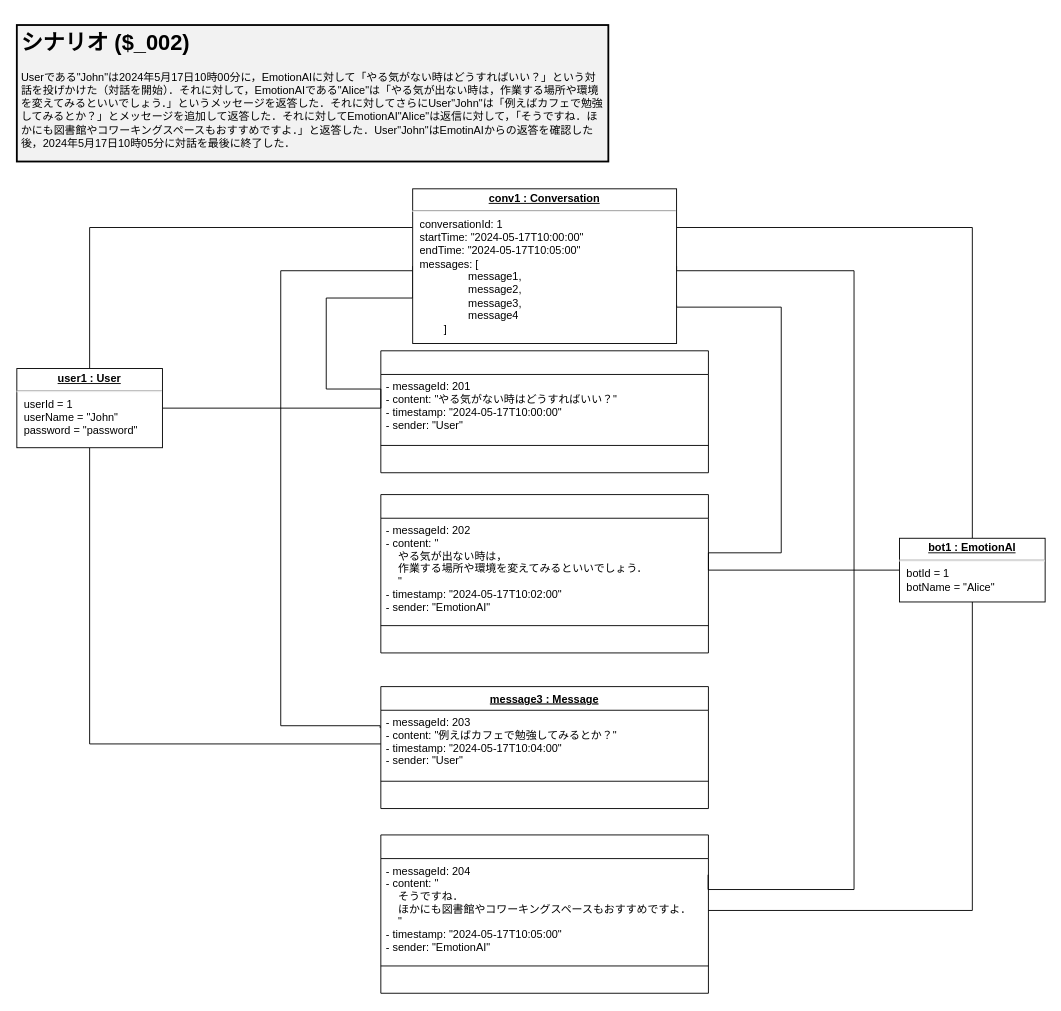
This 1061x1011 diagram has some shape labels left out. Here are the shapes that lost their labels. From the top down, the box of each, then its label:
(380, 350, 708, 473): message1 : Message
(380, 494, 708, 653): message2 : Message
(380, 834, 708, 993): message4 : Message
